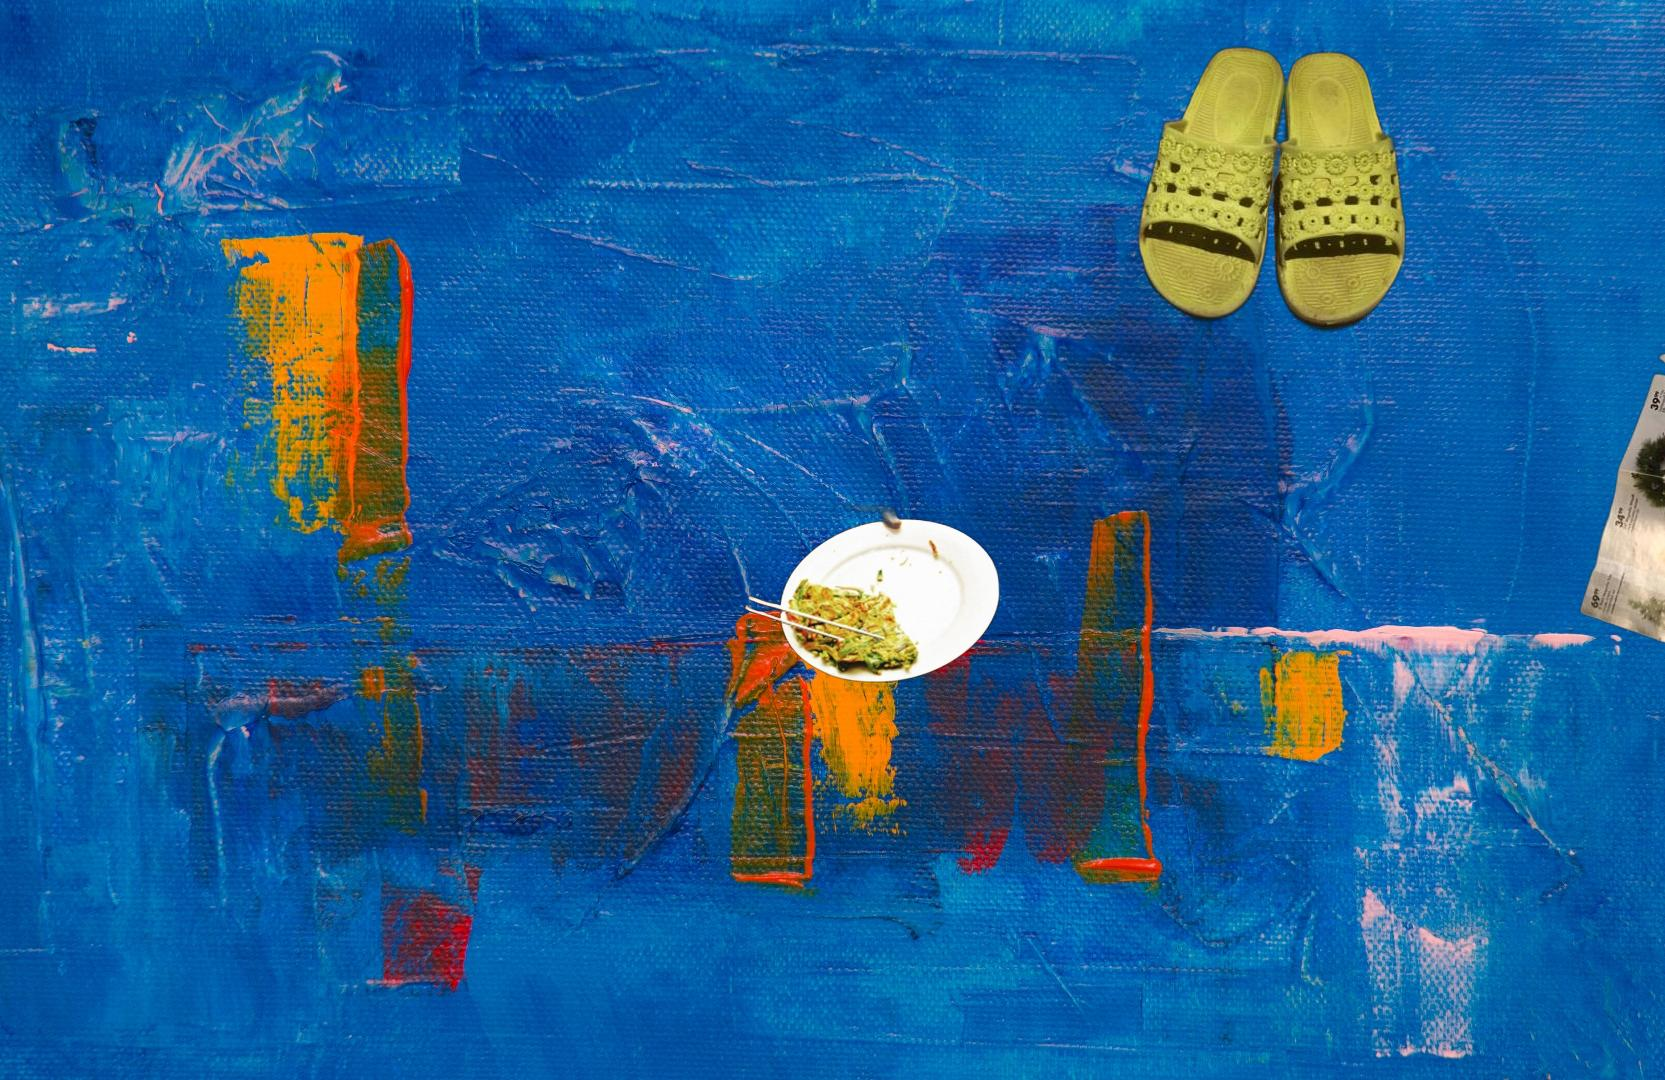biological: (607, 505, 1002, 684)
paper: (1576, 348, 1665, 720)
shoes: (1136, 42, 1409, 335)
